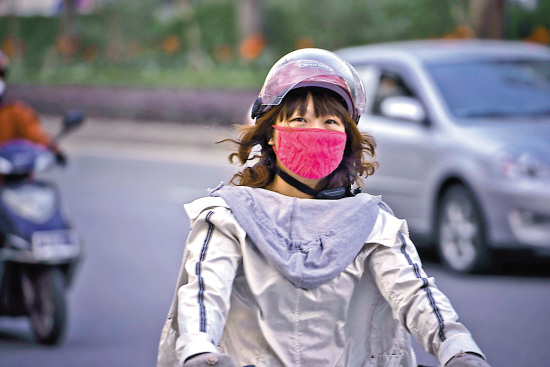mask: (270, 109, 358, 179)
